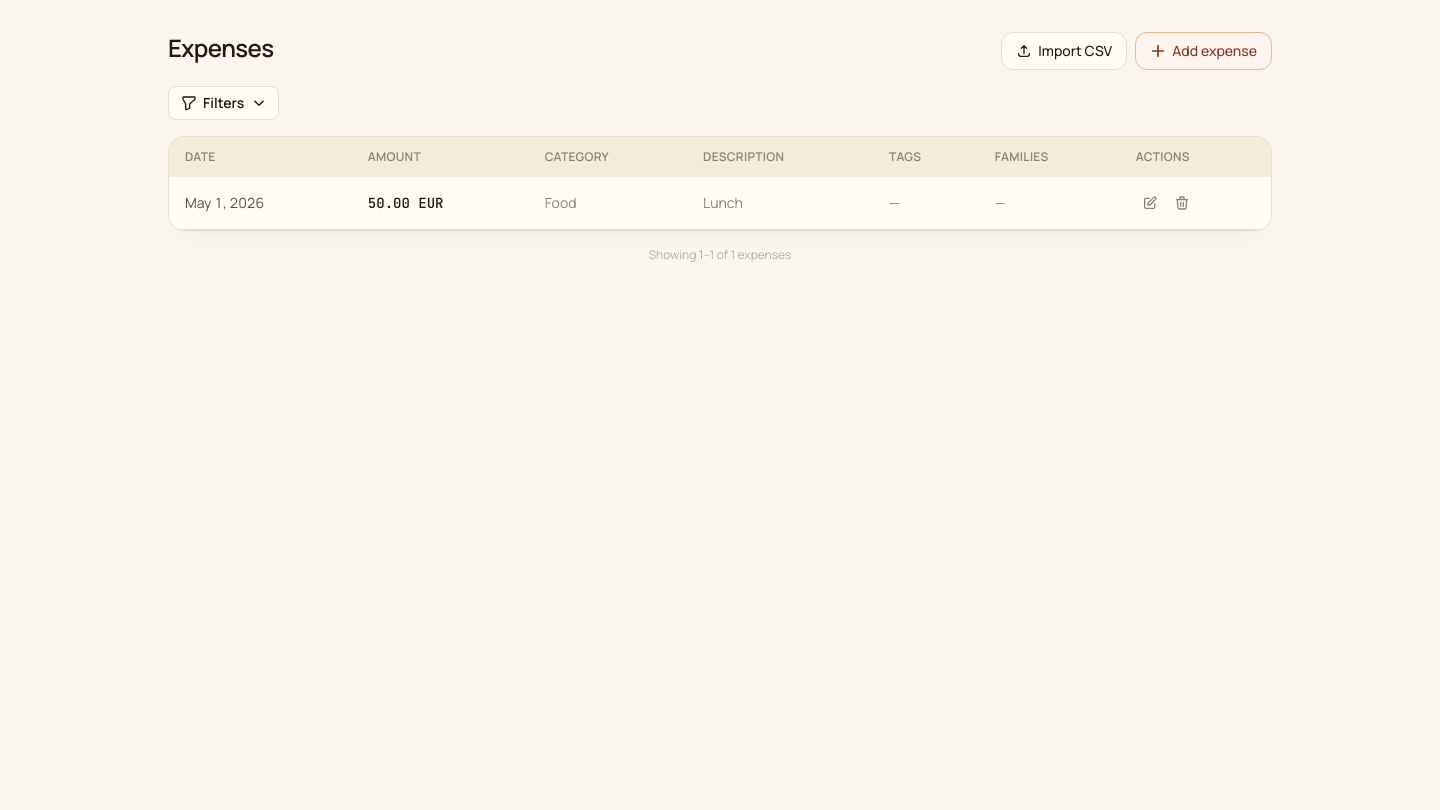
ExpensesPage › shows confirm modal on Delete click
The width and height of the screenshot is (1440, 810).
Check: the table is shown, box [169, 137, 1271, 230]
Click the button named "delete" at (1182, 203), box [1168, 189, 1196, 217]
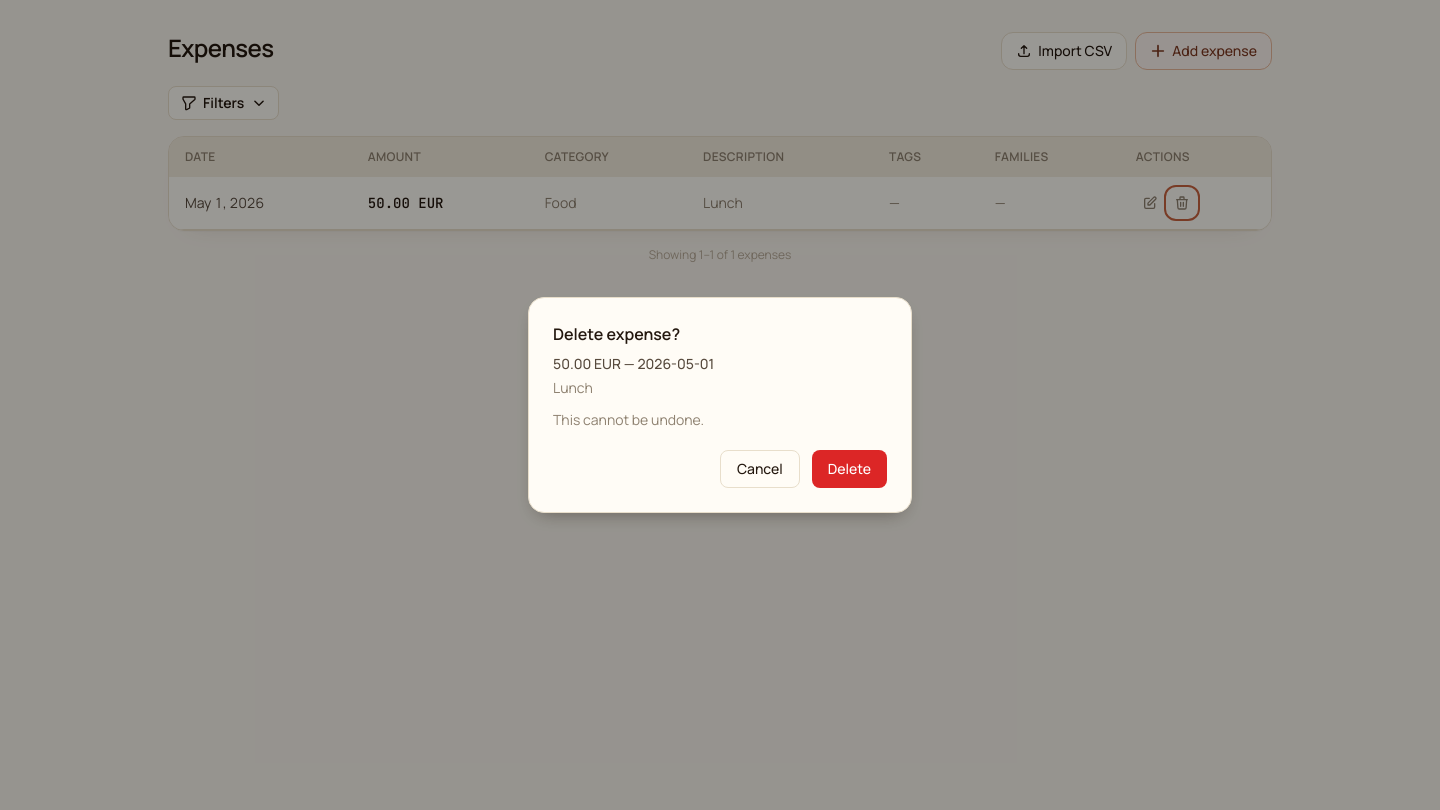
Check: the heading "Delete expense?" is shown, box [553, 323, 680, 345]
